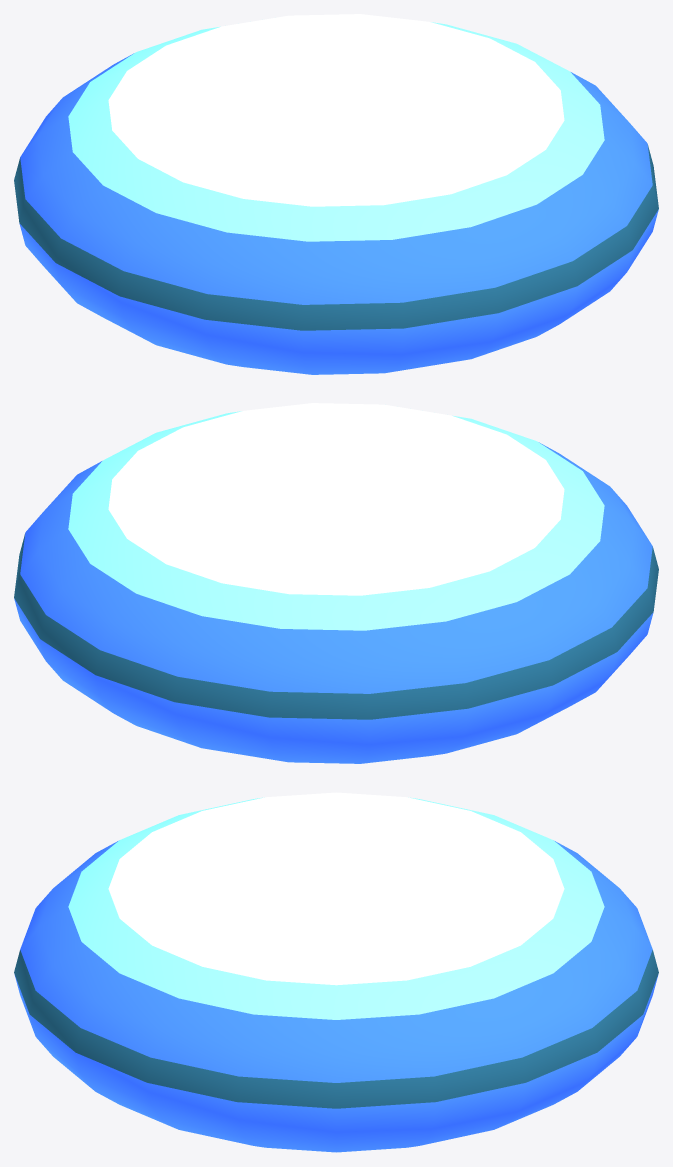
Rendered from newsh-caret-163.glb.
3 views of the same model, one above another, from view 1: azimuth 30°, elevation 25°; view 2: azimuth 150°, elevation 25°; view 3: azimuth 270°, elevation 25° (orthographic).
Visible parts, largest first — view 1: newsh-caret-163; view 2: newsh-caret-163; view 3: newsh-caret-163.
Boxes of the visible parts, bbox=[...] form: newsh-caret-163: bbox=[14, 14, 658, 374]; newsh-caret-163: bbox=[14, 403, 658, 763]; newsh-caret-163: bbox=[14, 792, 658, 1152].
Bounding box in the file's own units: 1.43 × 0.58 × 1.43.
